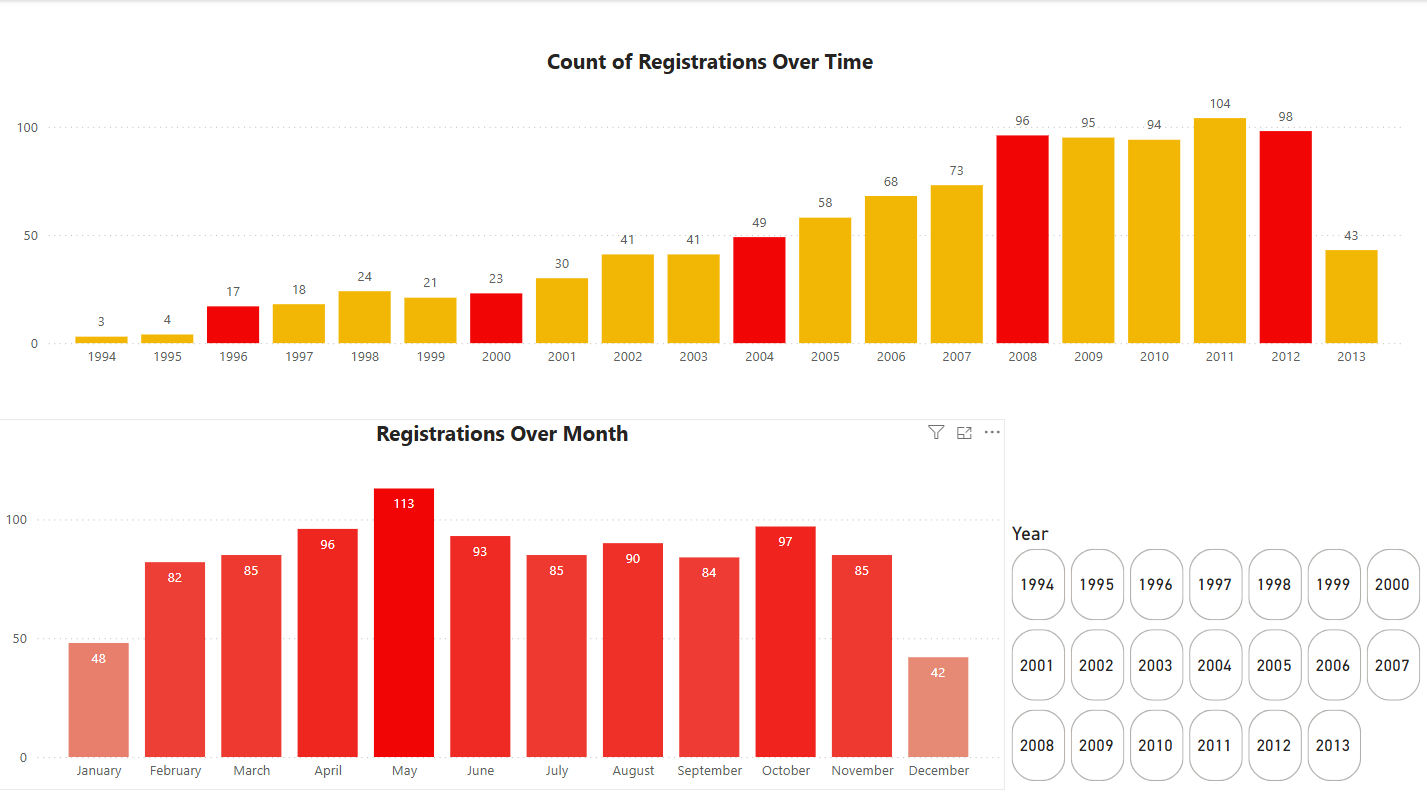

Layout of this report page (visuals, bound fields, positions):
{"tool":"powerbi","page":{"name":"Registrations","canvas":[1280,720],"ordinal":0},"visuals":[{"type":"clusteredColumnChart","fields":{"Category":["Customer_Campaign_Sales.REG_DATE.Variation.Date Hierarchy.Year"],"Y":["CountNonNull(Customer_Campaign_Sales.REG_DATE)"]},"box":[10,0,1188.6,337.1],"z":0},{"type":"clusteredColumnChart","fields":{"Category":["Customer_Campaign_Sales.REG_DATE.Variation.Date Hierarchy.Month"],"Y":["CountNonNull(Customer_Campaign_Sales.REG_DATE)"]},"box":[0,337.1,901.4,370],"z":1000},{"type":"advancedSlicerVisual","fields":{"Values":["Customer_Campaign_Sales.REG_DATE.Variation.Date Hierarchy.Year"]},"box":[901.4,467.1,378.6,240],"z":2000}]}

Visuals, with their boxes in screenshot pixels (x1, y1, x2, y2), scaled from the page's 1280x720 canvas onto the 1427x801 screenshot:
clusteredColumnChart - Customer_Campaign_Sales.REG_DATE.Variation.Date Hierarchy.Year x CountNonNull(Customer_Campaign_Sales.REG_DATE): l=11, t=0, r=1336, b=375
clusteredColumnChart - Customer_Campaign_Sales.REG_DATE.Variation.Date Hierarchy.Month x CountNonNull(Customer_Campaign_Sales.REG_DATE): l=0, t=375, r=1005, b=787
advancedSlicerVisual - Customer_Campaign_Sales.REG_DATE.Variation.Date Hierarchy.Year: l=1005, t=520, r=1426, b=787
